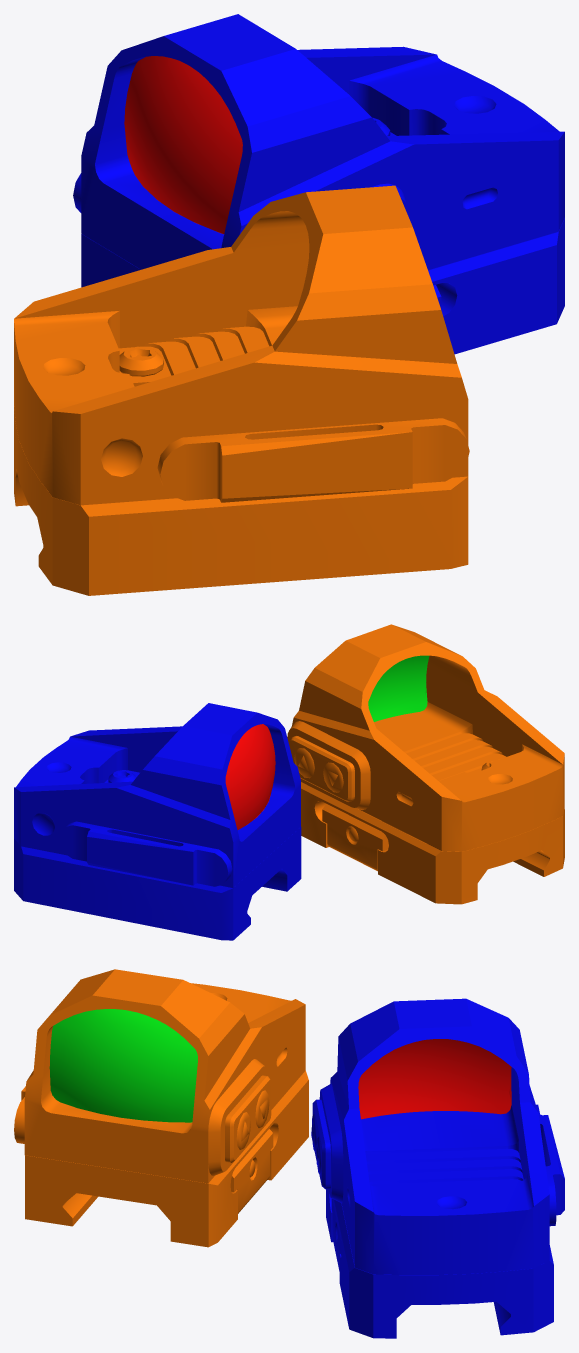
The model's file is SFO Kingslayer.fbx.
The picture shows the model from 3 angles, top to bottom: view 1: azimuth 30°, elevation 25°; view 2: azimuth 150°, elevation 25°; view 3: azimuth 270°, elevation 25°; orthographic projection. The views are drawn at different scales.
Parts seen in each view (by area): view 1: LP KS Main Body, LP KS Main Body001, LP KS Mount Pad, LP KS Battery Cover, LP Outer Glass001, LP KS Mount Pad001, LP KS Screws; view 2: LP KS Main Body, LP KS Main Body001, LP KS Mount Pad001, LP KS Mount Pad, LP KS Battery Cover001, LP Outer Glass001, LP Inner Glass, LP KS Mount Pad 2; view 3: LP KS Main Body001, LP KS Main Body, LP Outer Glass, LP KS Mount Pad, LP KS Mount Pad001, LP Inner Glass001, LP KS Mount Pad 2, LP KS Battery Cover001.
Part boxes in pixels (left/top/right/bottom): LP KS Main Body: left=14, top=185, right=468, bottom=505; LP KS Main Body001: left=81, top=14, right=564, bottom=270; LP KS Mount Pad: left=14, top=406, right=468, bottom=595; LP KS Battery Cover: left=157, top=418, right=469, bottom=502; LP Outer Glass001: left=124, top=56, right=242, bottom=233; LP KS Mount Pad001: left=81, top=218, right=564, bottom=354; LP KS Screws: left=119, top=346, right=163, bottom=376; LP KS Main Body: left=287, top=624, right=564, bottom=851; LP KS Main Body001: left=14, top=703, right=300, bottom=887; LP KS Mount Pad001: left=14, top=827, right=301, bottom=940; LP KS Mount Pad: left=301, top=782, right=564, bottom=904; LP KS Battery Cover001: left=59, top=821, right=232, bottom=886; LP Outer Glass001: left=225, top=724, right=275, bottom=829; LP Inner Glass: left=368, top=655, right=429, bottom=721; LP KS Mount Pad 2: left=322, top=803, right=388, bottom=871; LP KS Main Body001: left=311, top=998, right=549, bottom=1274; LP KS Main Body: left=24, top=969, right=305, bottom=1183; LP Outer Glass: left=49, top=1009, right=197, bottom=1122; LP KS Mount Pad: left=25, top=1070, right=308, bottom=1247; LP KS Mount Pad001: left=326, top=1189, right=553, bottom=1338; LP Inner Glass001: left=358, top=1039, right=511, bottom=1119; LP KS Mount Pad 2: left=230, top=1129, right=273, bottom=1213; LP KS Battery Cover001: left=536, top=1104, right=564, bottom=1226.
Bounding box in the file's own units: 201 × 87.25 × 197.
